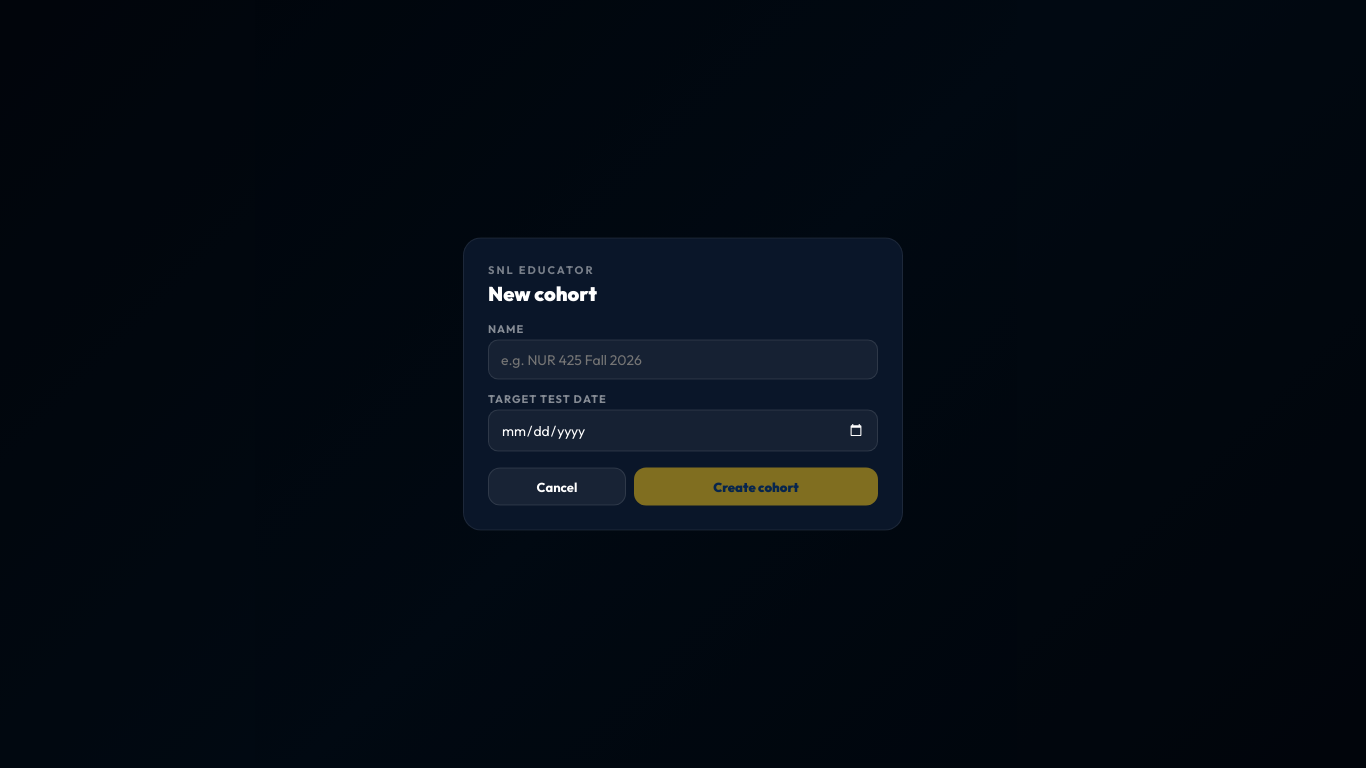
Test: CohortManageModal › create mode shows the generated cohort code on success
This screenshot has width=1366, height=768.
In the field named "cohort name": (683, 360) top-left (488, 340), bottom-right (878, 380), type "NUR 425"
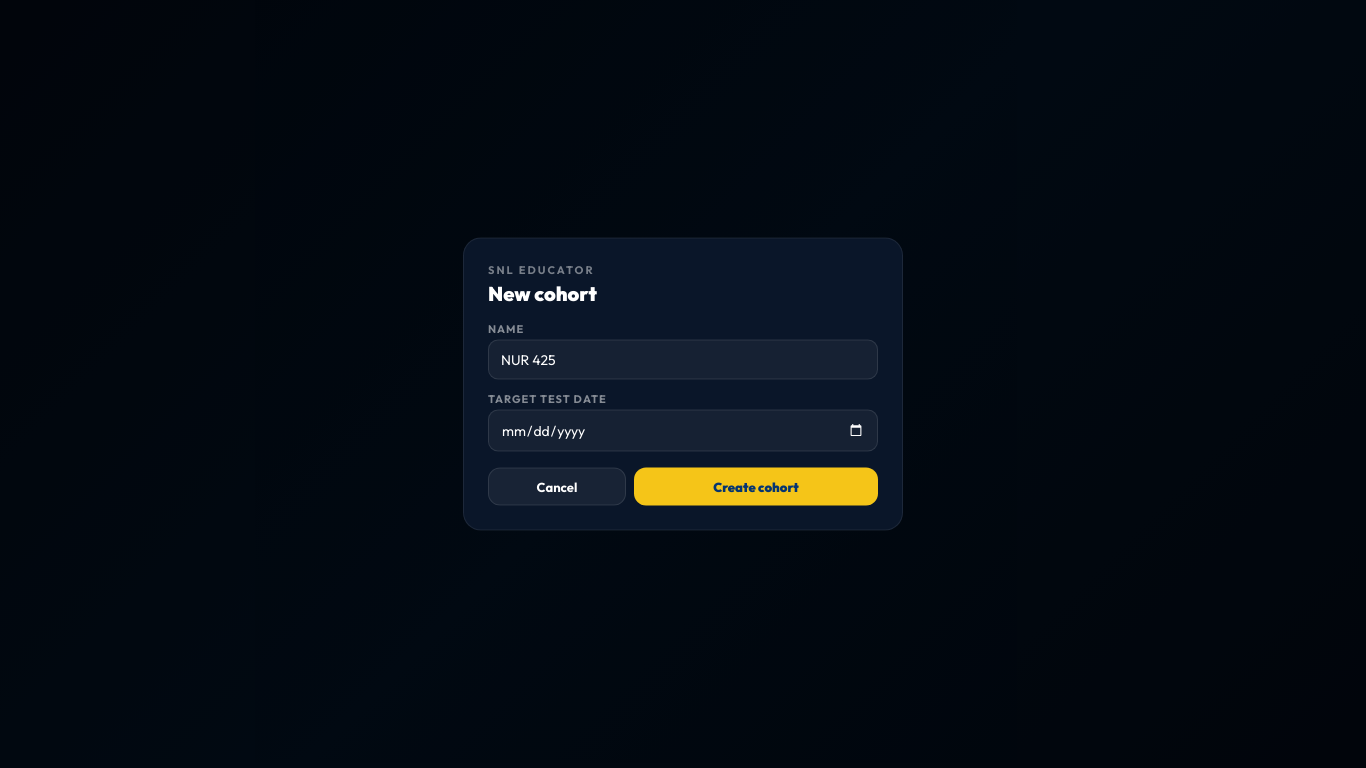
Click the button with test id "cohort-submit-btn": (756, 486) top-left (634, 468), bottom-right (878, 506)
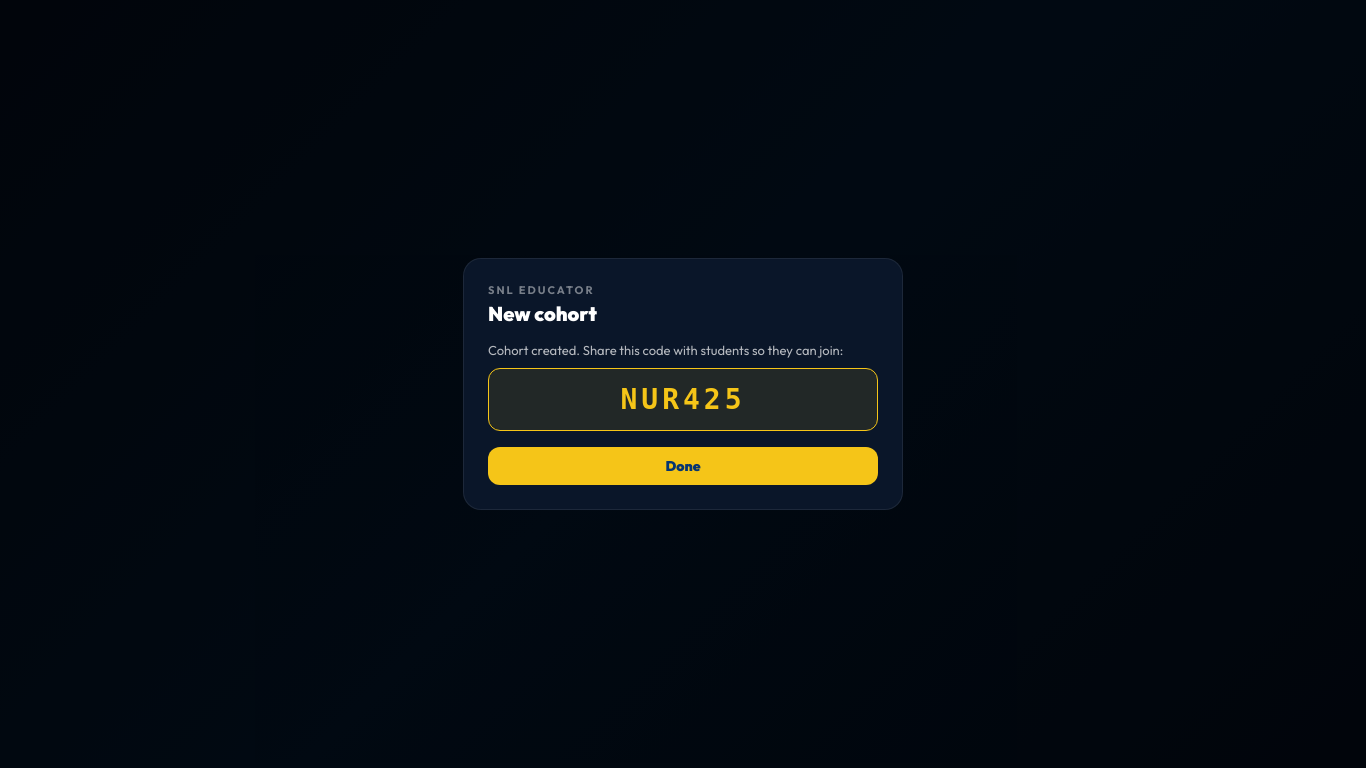
Result: the text with test id "cohort-code-display" reads "NUR425" at top-left (620, 383), bottom-right (746, 416)
